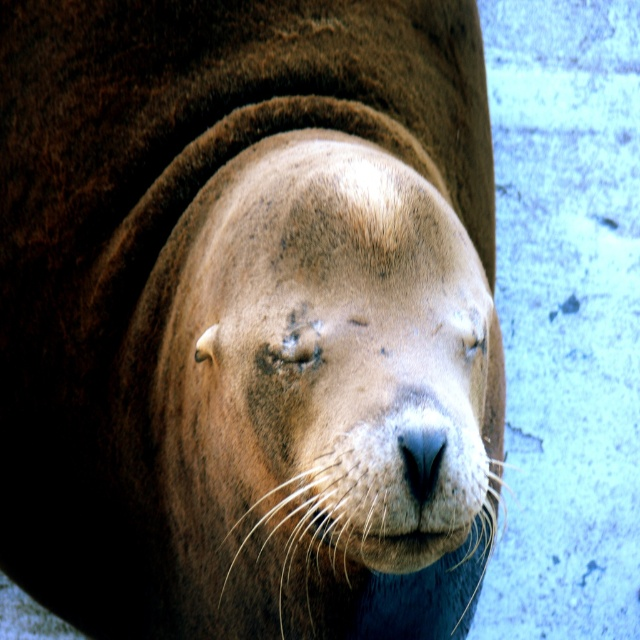Harbor seal: (0, 0, 527, 640)
